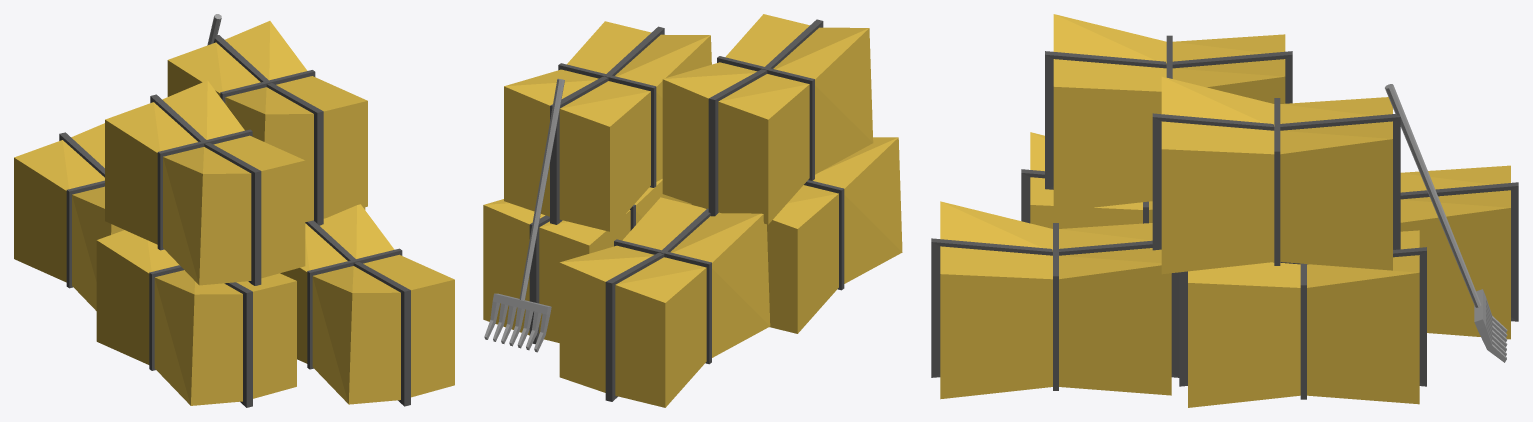
Rendered from haybale.gltf.
The picture shows the model from 3 angles, left to right: view 1: azimuth 30°, elevation 25°; view 2: azimuth 150°, elevation 25°; view 3: azimuth 270°, elevation 25°; orthographic projection. The views are drawn at different scales.
Visible parts, largest first — view 1: Object_23, Object_26; view 2: Object_23, Object_26, Object_27; view 3: Object_23, Object_26, Object_27.
Boxes of the visible parts, x1=… form: Object_23: x1=14, y1=21, x2=454, y2=405; Object_26: x1=59, y1=35, x2=410, y2=407; Object_23: x1=483, y1=14, x2=902, y2=407; Object_26: x1=529, y1=19, x2=844, y2=401; Object_27: x1=484, y1=78, x2=564, y2=352; Object_23: x1=940, y1=14, x2=1510, y2=407; Object_26: x1=931, y1=35, x2=1518, y2=399; Object_27: x1=1385, y1=84, x2=1507, y2=362.
Bounding box in the file's own units: 11.54 × 11.34 × 20.56.
